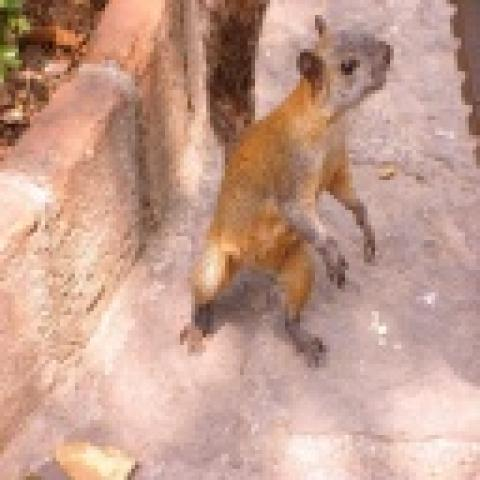small_animal: (176, 11, 394, 368)
